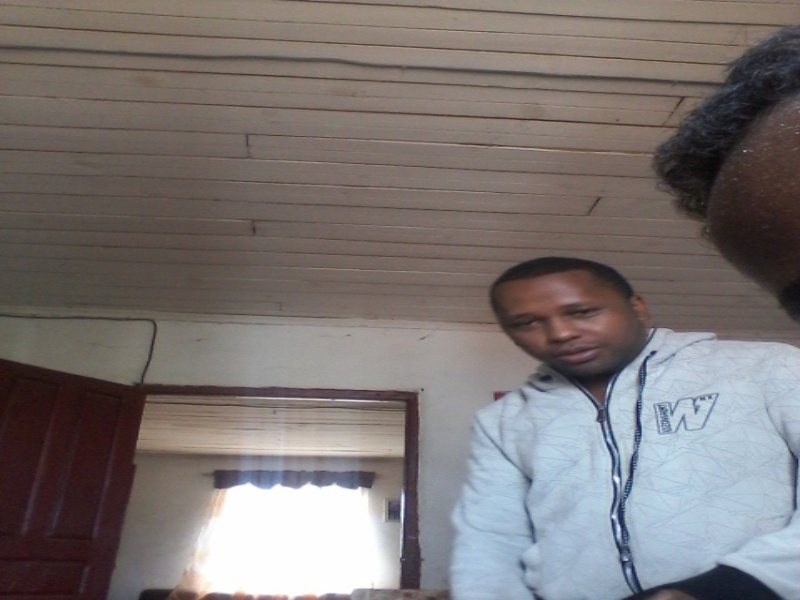TsisyArotava: (487, 249, 648, 393)
